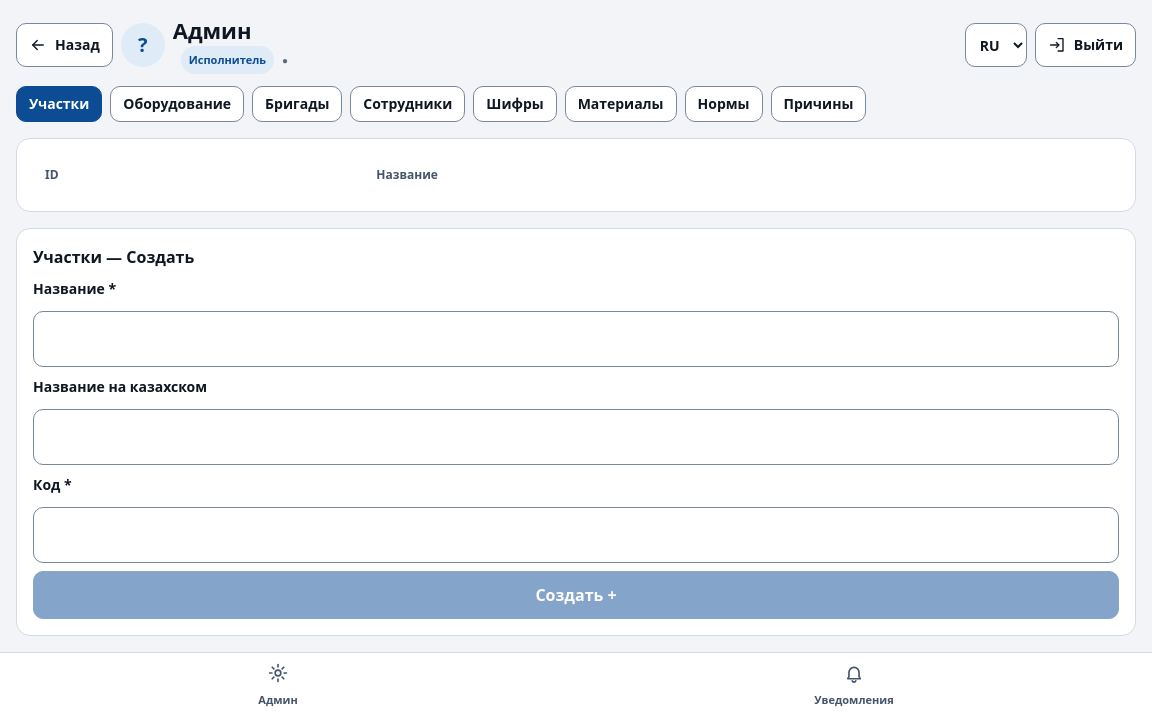
Test case: AdminPage edit modal › cancels without saving
Expected: the button "Участки" is shown, [16,86,102,122]
Click the button "Сотрудники".
click(408, 104)  # box [350,86,465,122]
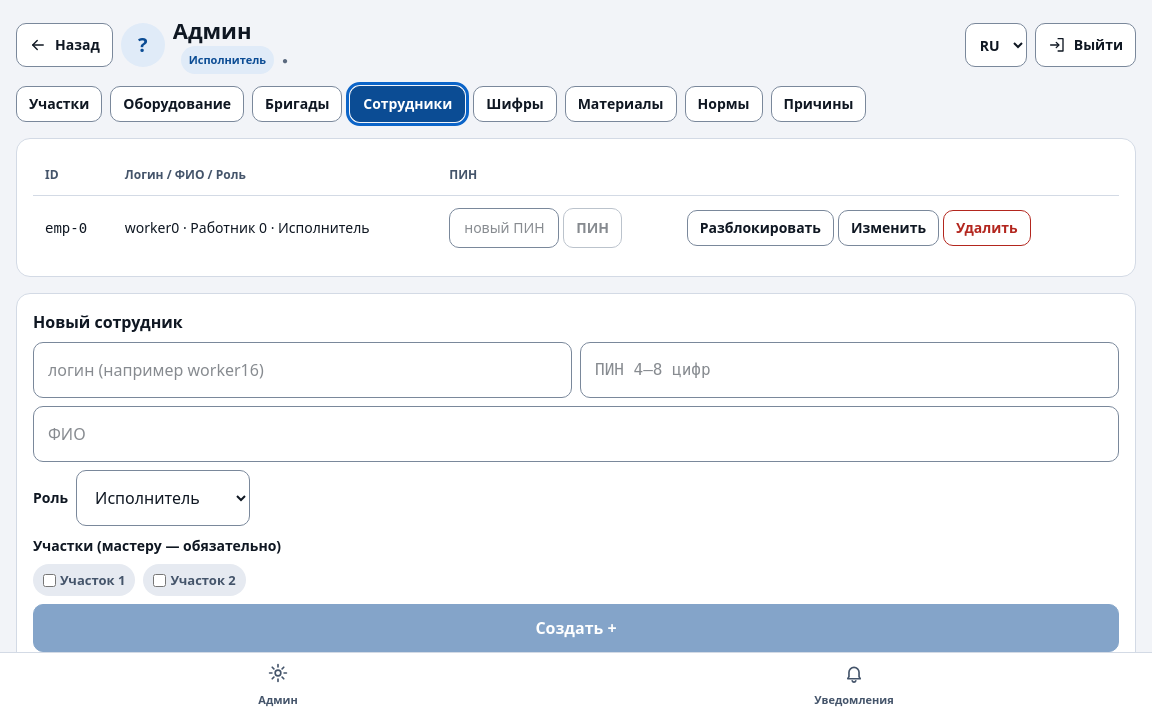
Now the text "worker0 · Работник 0 · Исполнитель" is shown, box [113,196,437,260]
Click the button "Изменить".
click(889, 228)  # box [838,210,939,246]
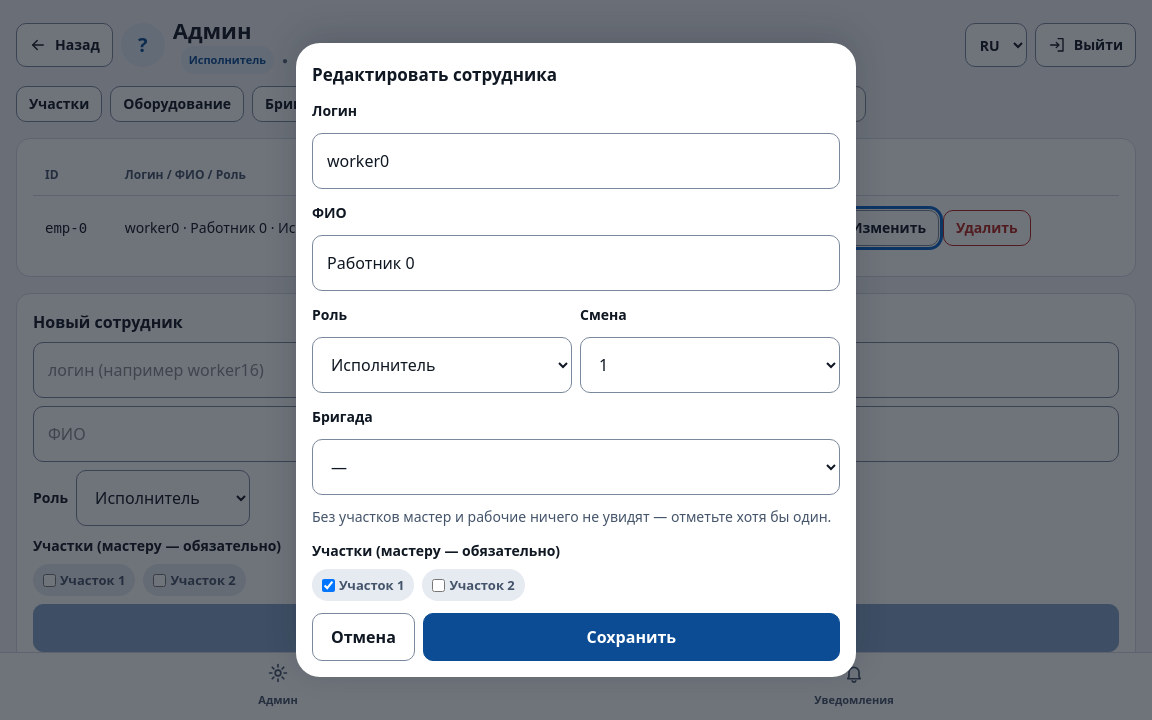
Click the button "Отмена".
click(363, 637)  # box [312,613,415,661]
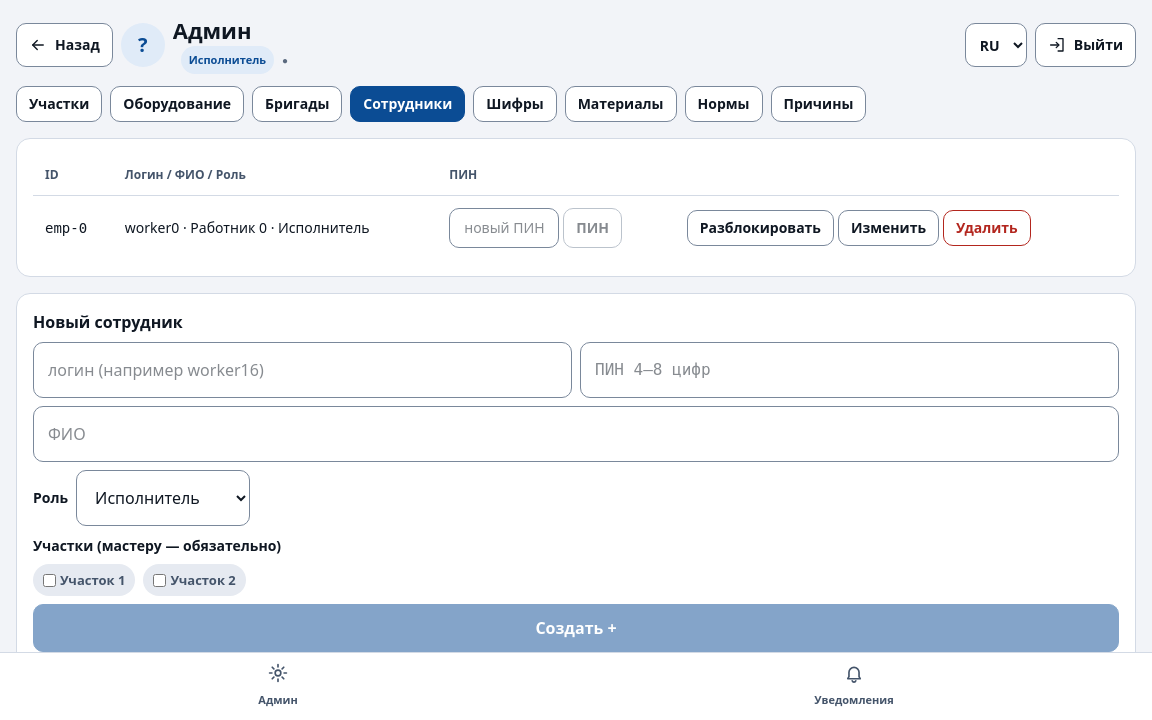
Now the dialog is gone
